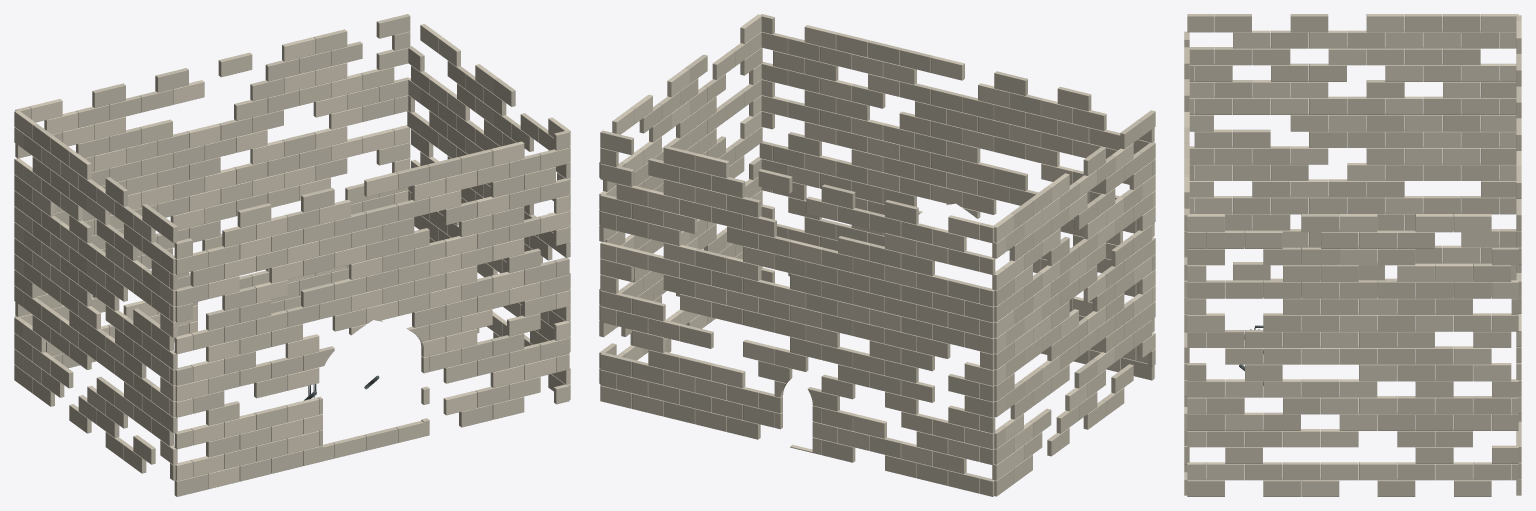
File: Catalog-05.glb
The picture shows the model from 3 angles, left to right: view 1: azimuth 30°, elevation 25°; view 2: azimuth 150°, elevation 25°; view 3: azimuth 270°, elevation 25°; orthographic projection. The views are drawn at different scales.
Parts seen in each view (by area): view 1: Limestone Block Tone 1, Limestone Block Tone 2, Limestone Block Tone 4; view 2: Limestone Block Tone 1, Limestone Block Tone 2, Limestone Block Tone 4; view 3: Limestone Block Tone 1, Limestone Block Tone 2, Limestone Block Tone 4.
Part boxes in pixels (x1,y1,x2,y2): Limestone Block Tone 1: (14,14,570,496); Limestone Block Tone 2: (14,29,570,473); Limestone Block Tone 4: (14,24,570,489); Limestone Block Tone 1: (599,14,1155,496); Limestone Block Tone 2: (599,31,1155,482); Limestone Block Tone 4: (599,14,1155,480); Limestone Block Tone 1: (1184,14,1521,496); Limestone Block Tone 2: (1184,14,1521,496); Limestone Block Tone 4: (1184,14,1521,496).
Size of the model in its own units: 17.6 by 11.39 by 12.4.
